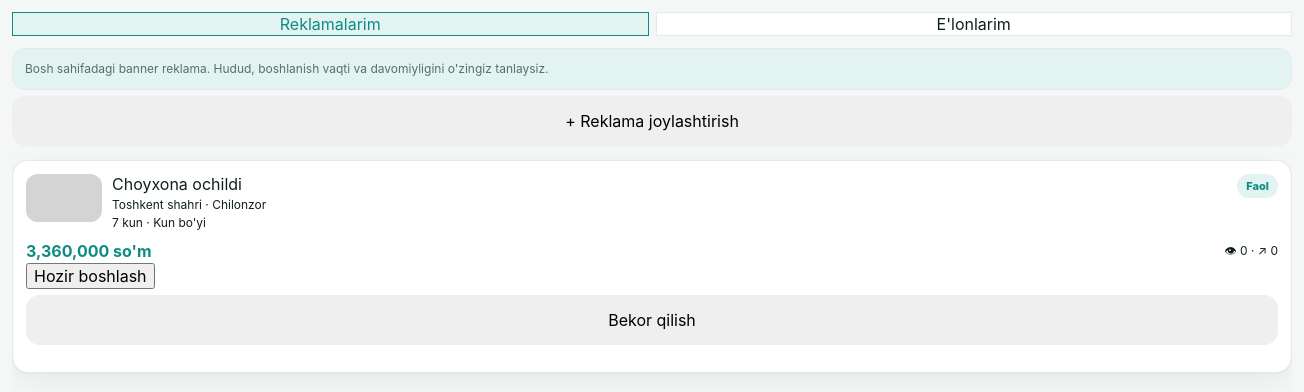
reklama joylash yangi endpointlarga ulangan › kelajakdagi faol reklamani egasi hozir boshlaydi
Click the button "Hozir boshlash": (90, 276) [26, 263, 154, 289]
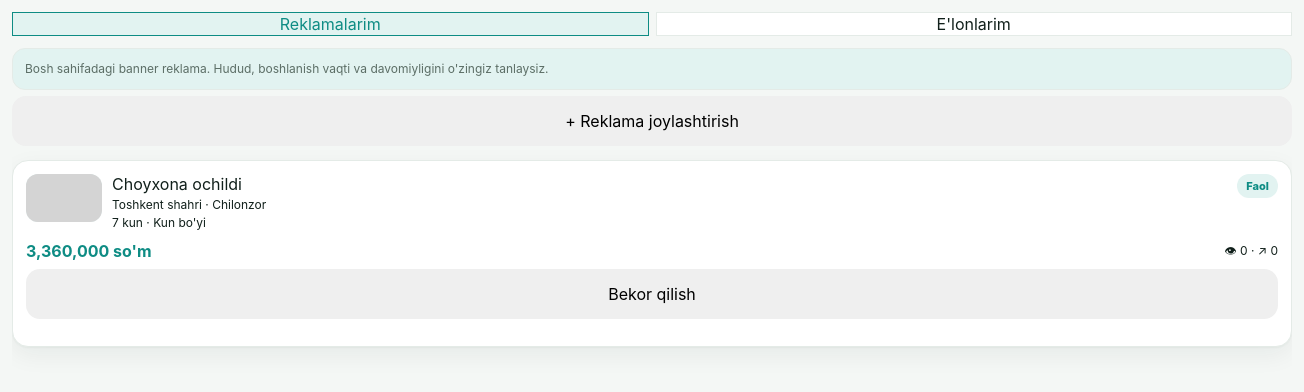
Check: the button "Hozir boshlash" is gone
